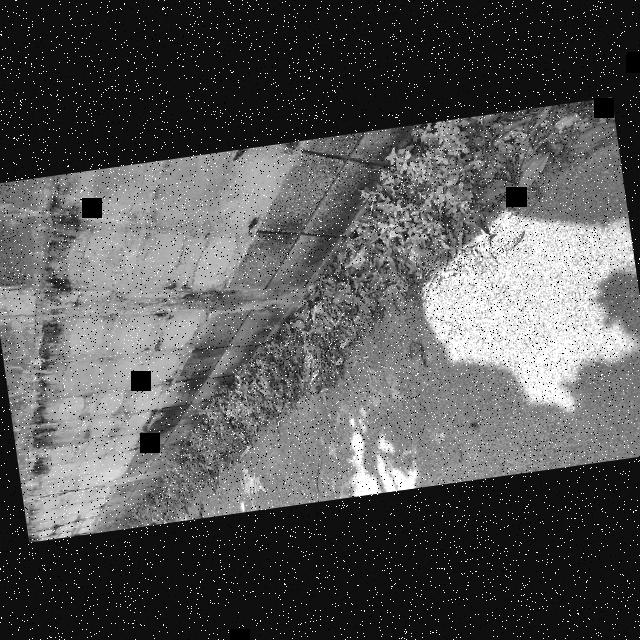scrap_plastic: (338, 232, 379, 276), (298, 348, 324, 392)
